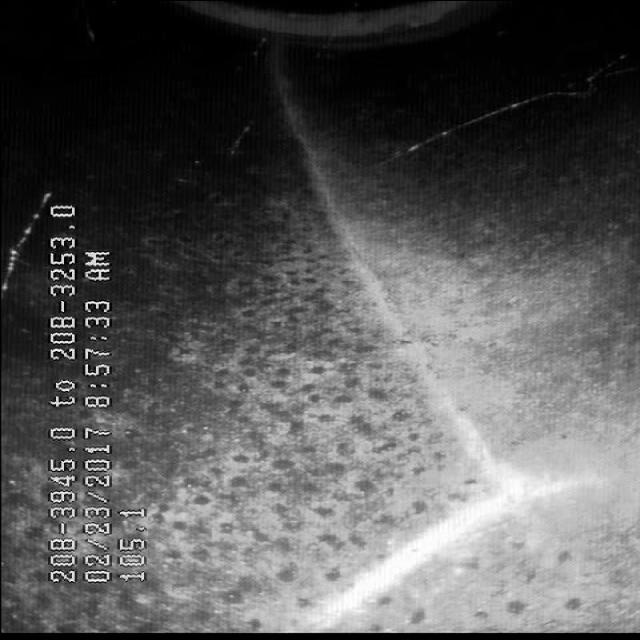Crack: (356, 42, 624, 172)
